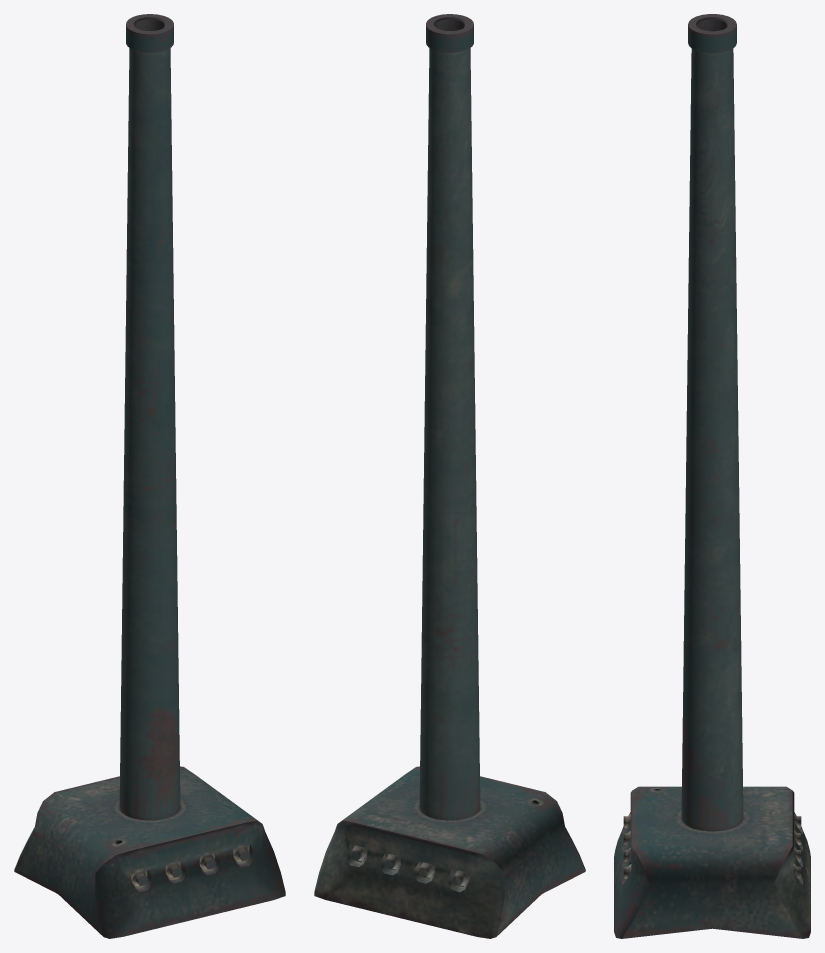
The model's file is Gun_06.glb.
3 renders of one model, left to right at view 1: azimuth 30°, elevation 25°; view 2: azimuth 150°, elevation 25°; view 3: azimuth 270°, elevation 25°, orthographic.
Visible parts, largest first — view 1: set_0_group_0; view 2: set_0_group_0; view 3: set_0_group_0.
Part boxes in pixels (left/top/right/bottom): set_0_group_0: left=14, top=14, right=285, bottom=938; set_0_group_0: left=314, top=14, right=585, bottom=938; set_0_group_0: left=614, top=14, right=810, bottom=938.
Bounding box in the file's own units: 0.6379 × 2.84 × 0.5822.
Materials: 1 (1 with a texture image).
